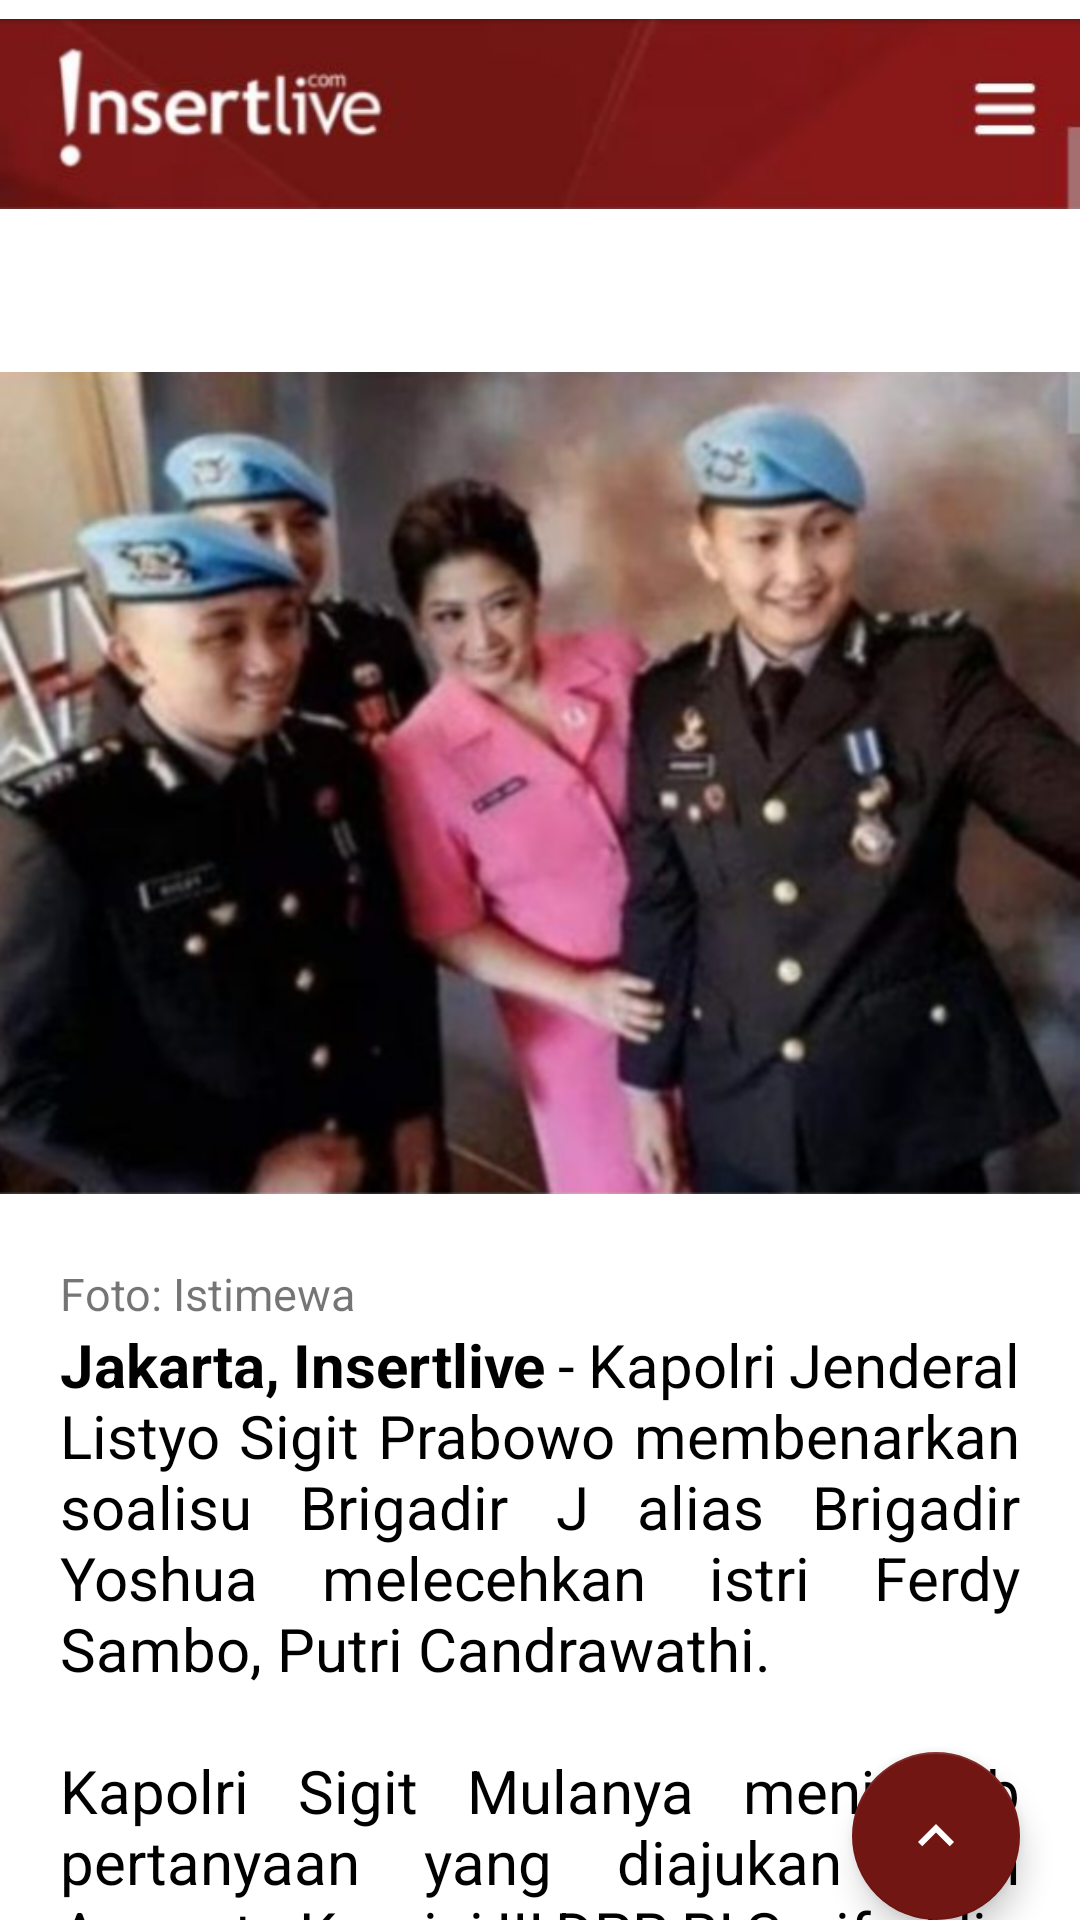

Where icons sit on this 1080px x 1920px app screen, as (x1=x1, y1=y1, x2=x2, y2=y2):
fab arrow: (x1=852, y1=1752, x2=1020, y2=1920)
